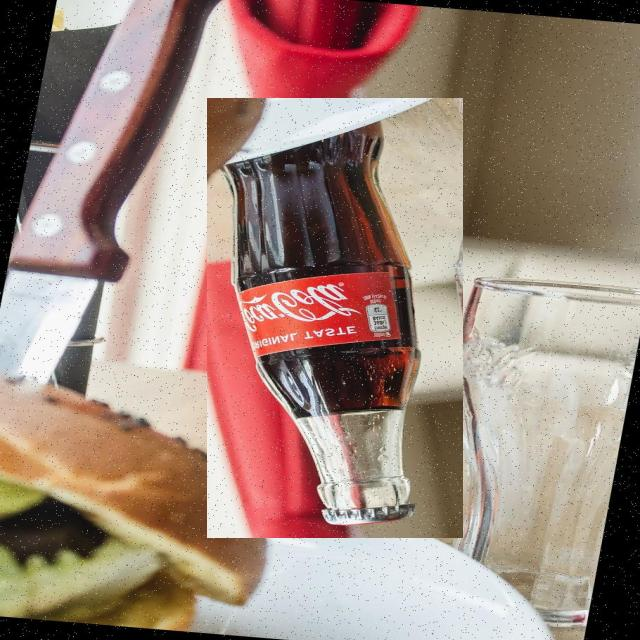coca-cola: (207, 98, 463, 538)
